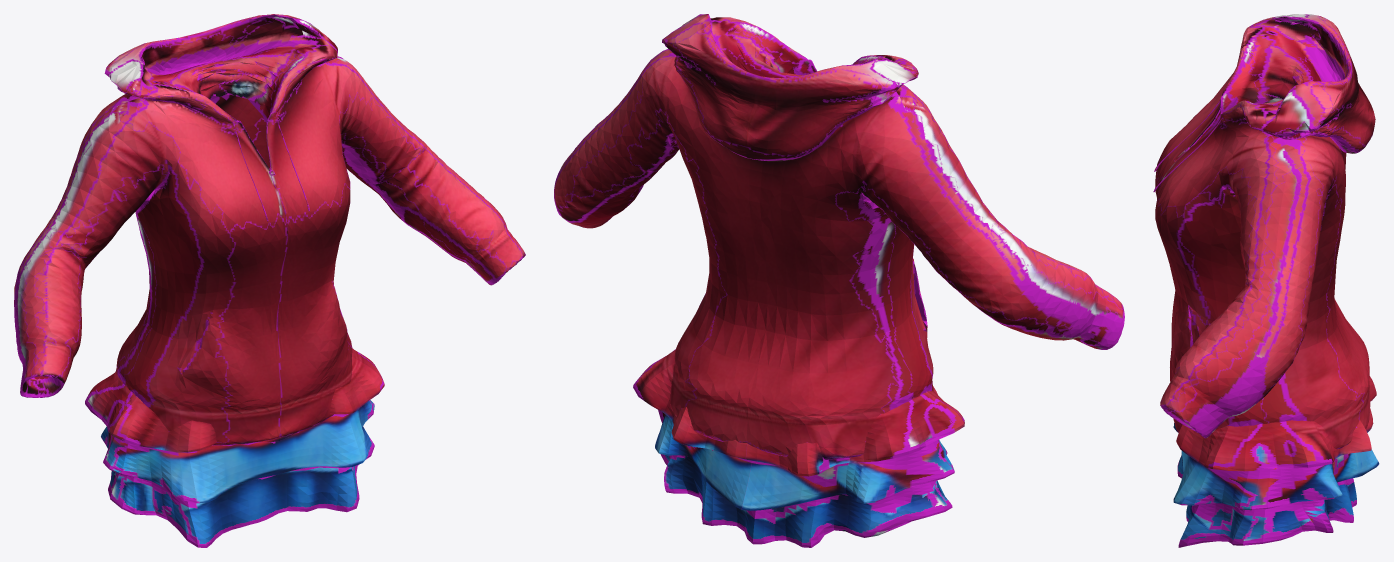
The picture shows the model from 3 angles, left to right: view 1: azimuth 30°, elevation 25°; view 2: azimuth 150°, elevation 25°; view 3: azimuth 270°, elevation 25°; orthographic projection. The views are drawn at different scales.
Bounding box in the file's own units: 1.15 × 0.9894 × 0.4381.
Materials: 1 (1 with a texture image).
